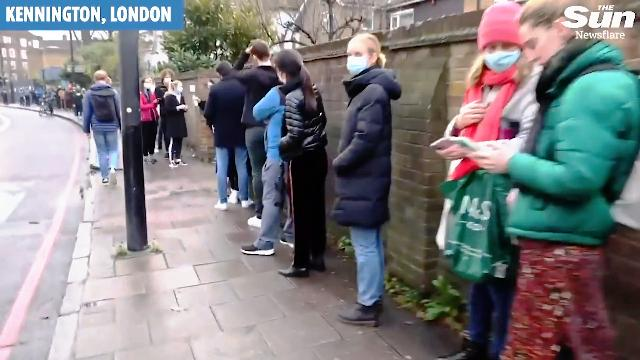berdiri: (328, 27, 408, 331), (262, 43, 336, 284), (197, 58, 257, 222), (154, 65, 193, 173)
